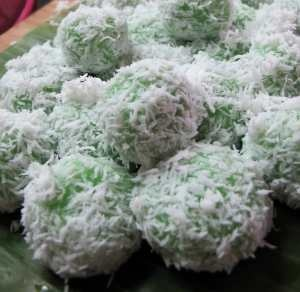klepon: (12, 168, 151, 276), (40, 7, 136, 70)
